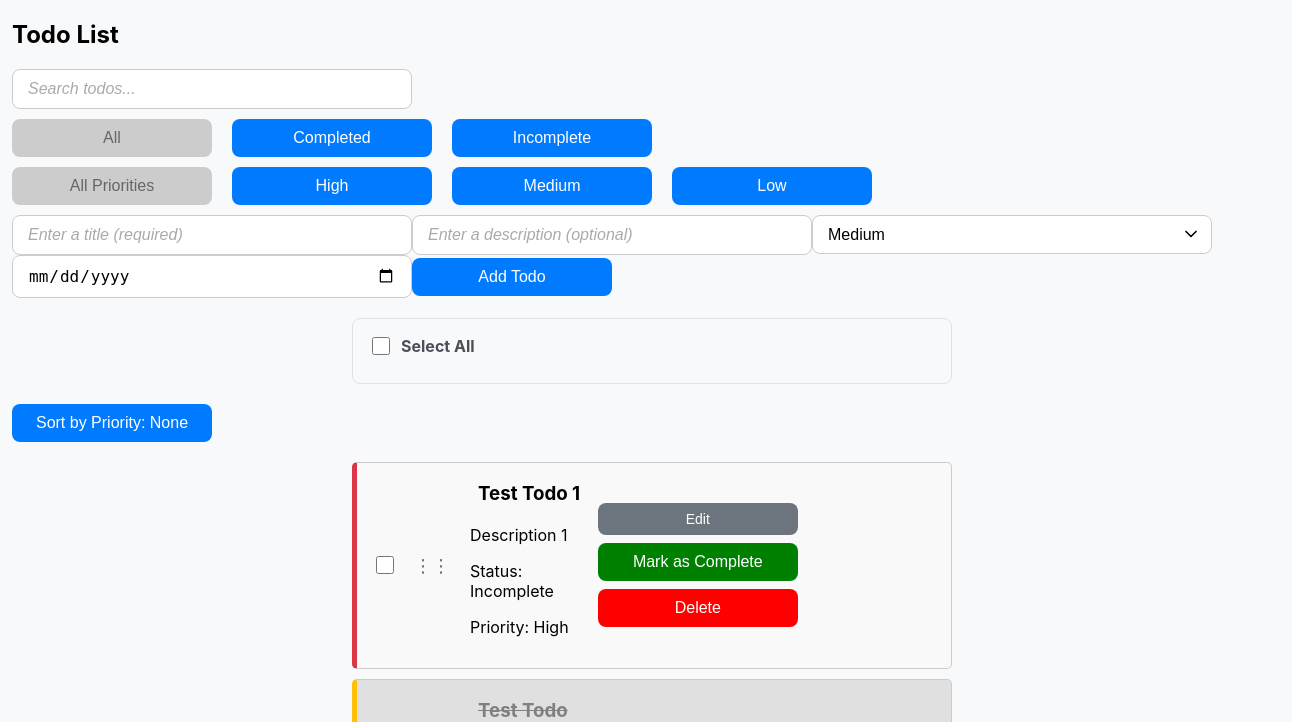
TodoList Component › 一括操作 › 選択数が表示される
expect the heading "Test Todo 1" is shown: met, box [478,482,580,505]
expect the checkbox labelled "Select All" is shown: met, box [372,337,390,355]
1つ選択すると選択数が表示される
Step 1. Click the 2nd checkbox → (385, 565), box [376,556,394,574]
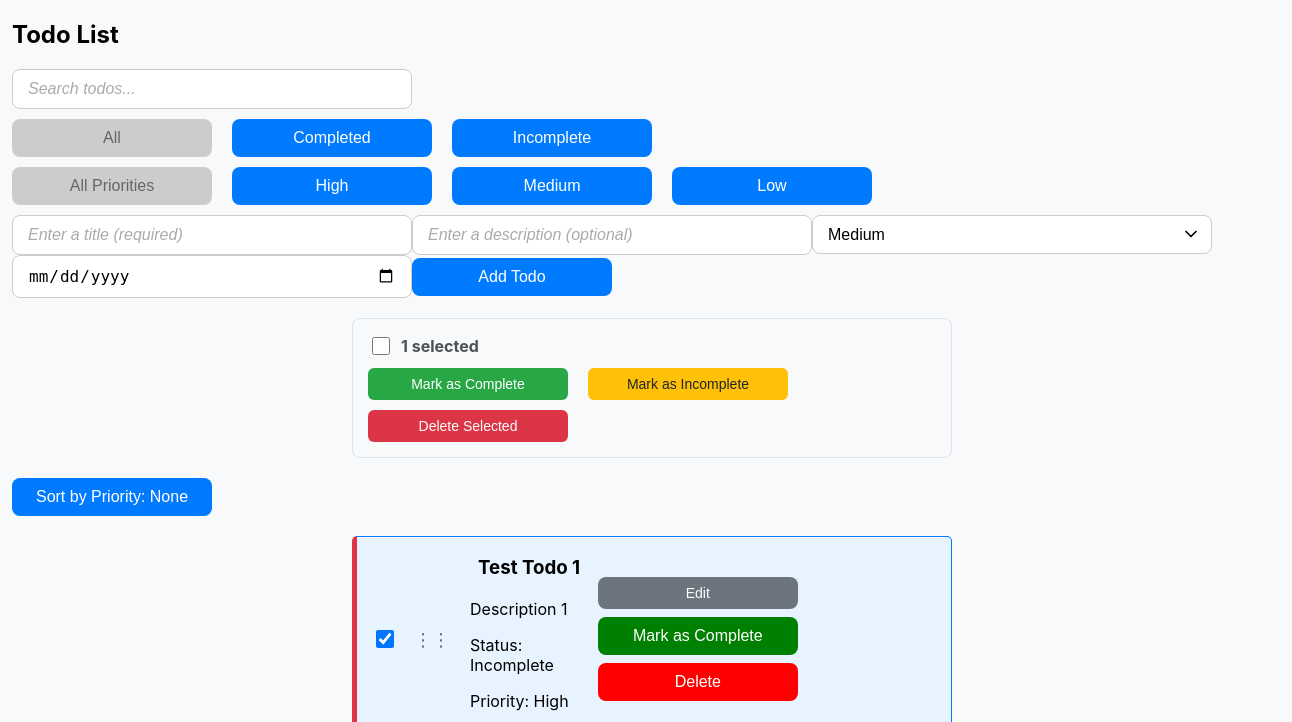
expect the text "1 selected" is shown: met, box [401,336,479,356]
